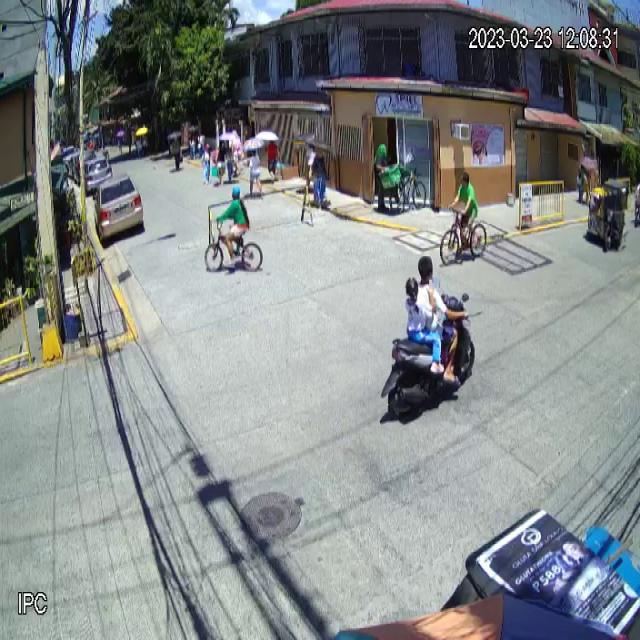Car: (93, 172, 144, 247)
Motorcycle: (381, 293, 476, 420)
